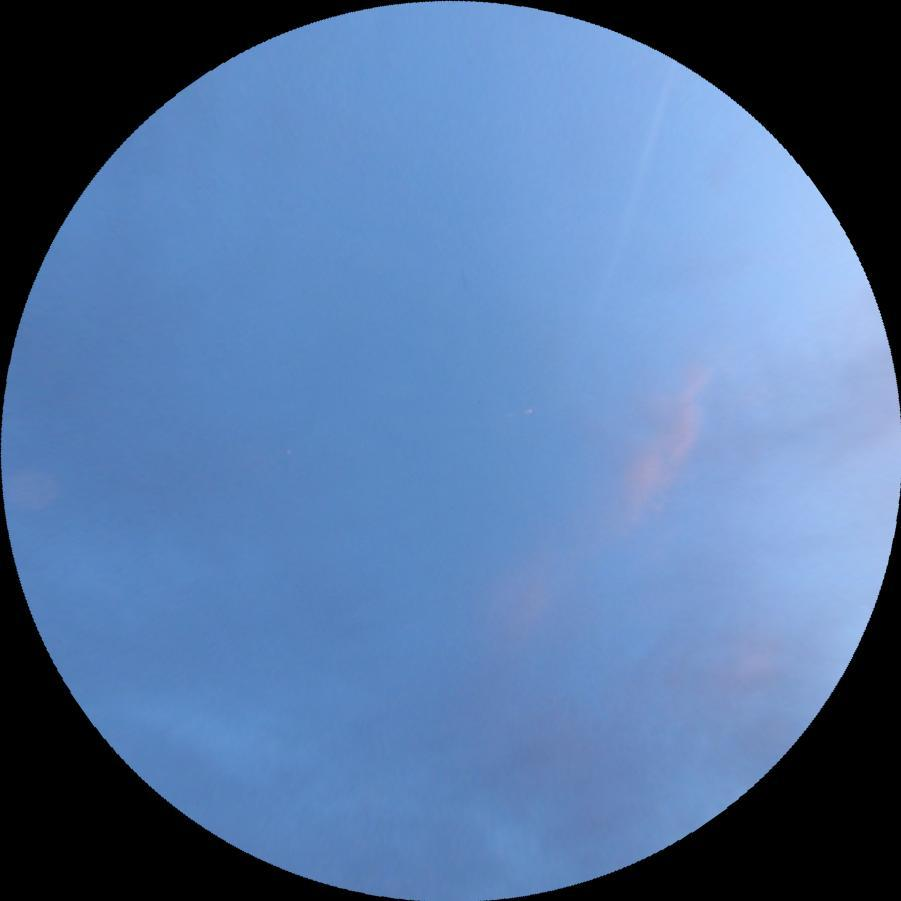contrail old: (589, 57, 683, 318)
